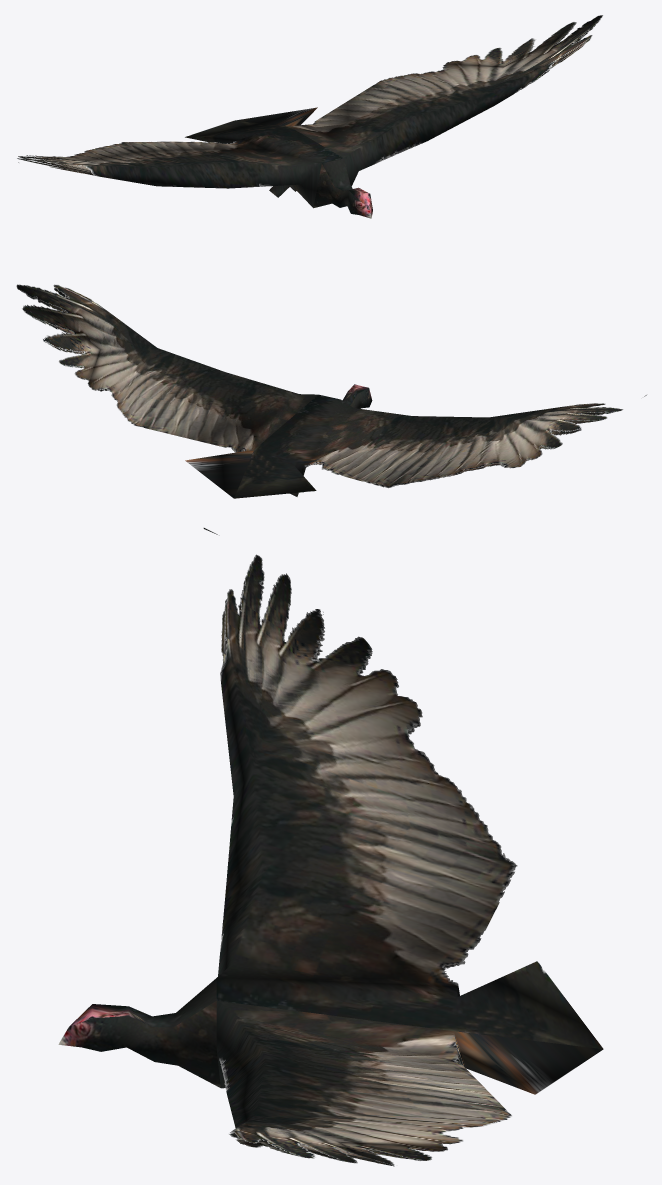
Rendered from vulture_1.obj.
The picture shows the model from 3 angles, top to bottom: view 1: azimuth 30°, elevation 25°; view 2: azimuth 150°, elevation 25°; view 3: azimuth 270°, elevation 25°; orthographic projection. The views are drawn at different scales.
Parts seen in each view (by area): view 1: Group; view 2: Group; view 3: Group.
Boxes of the visible parts, x1,y1,x2,y2 form: Group: (17,15,602,218); Group: (16,284,646,498); Group: (58,528,603,1166).
Bounding box in the file's own units: 90.72 × 19.81 × 34.25.
Materials: 1 (1 with a texture image).
